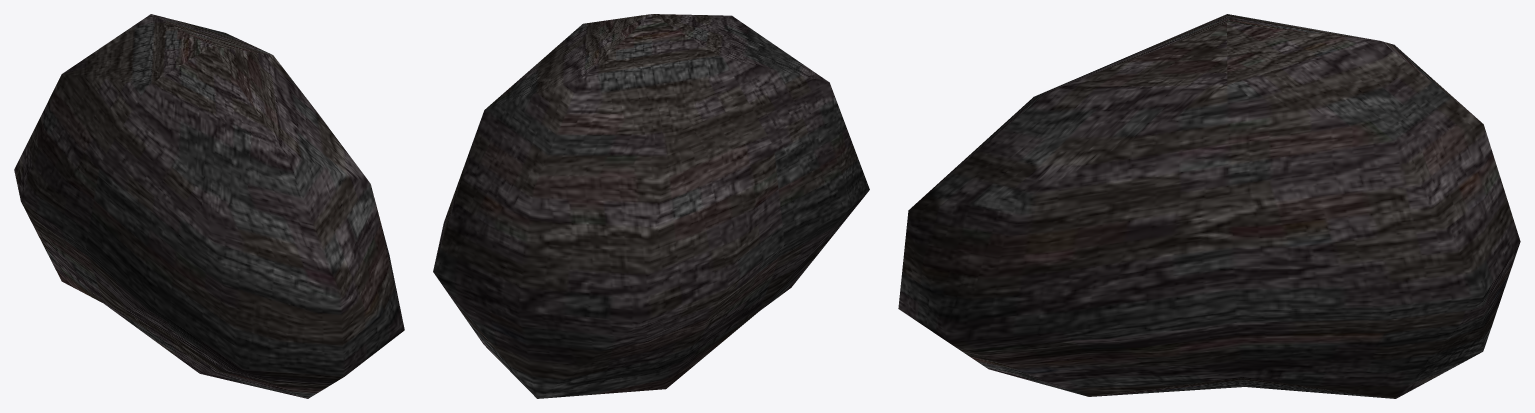
File: BurntAlien.FBX
The picture shows the model from 3 angles, left to right: view 1: azimuth 30°, elevation 25°; view 2: azimuth 150°, elevation 25°; view 3: azimuth 270°, elevation 25°; orthographic projection. The views are drawn at different scales.
Parts seen in each view (by area): view 1: Toasted Alien; view 2: Toasted Alien; view 3: Toasted Alien.
Boxes of the visible parts, x1,y1,x2,y2 form: Toasted Alien: (14, 14, 404, 398); Toasted Alien: (433, 14, 869, 398); Toasted Alien: (898, 14, 1520, 398).
Size of the model in its own units: 41.53 by 45.48 by 72.35.
